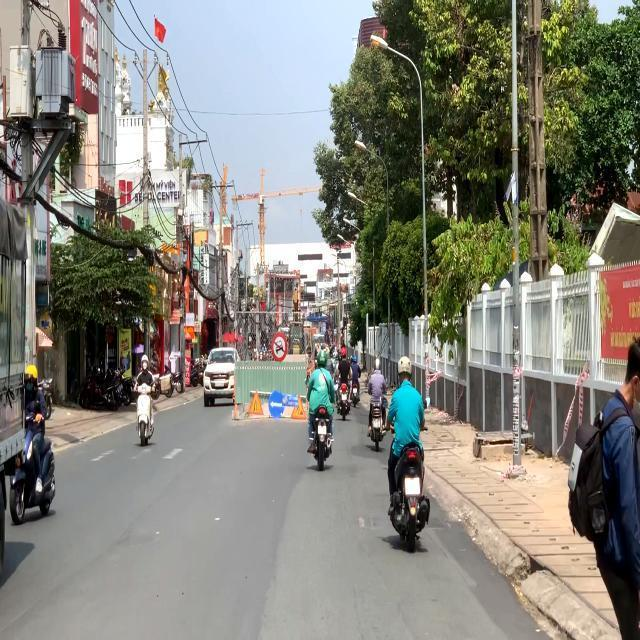103a-cam-oto: (270, 333, 288, 363)
203-duong-bi-hep: (248, 390, 264, 418)
227-cong-truong: (289, 394, 307, 422)
301c-cac-xe-chi-duoc-re-trai: (268, 390, 284, 418)
